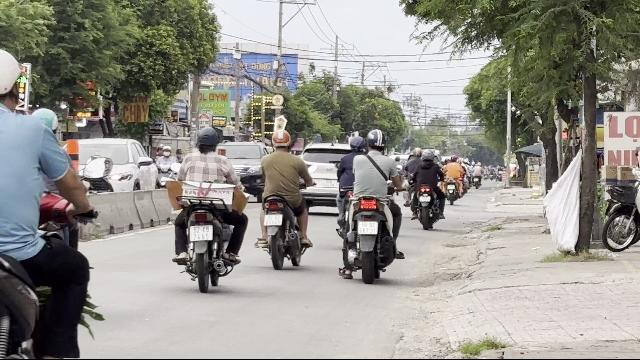helmet: (194, 127, 218, 154), (364, 129, 386, 151), (270, 130, 292, 150), (348, 134, 364, 150)
licenseplate: (190, 225, 212, 241), (358, 222, 378, 234), (264, 215, 282, 226)
motorcyclist: (168, 124, 248, 289), (333, 128, 405, 282), (253, 128, 314, 268)
